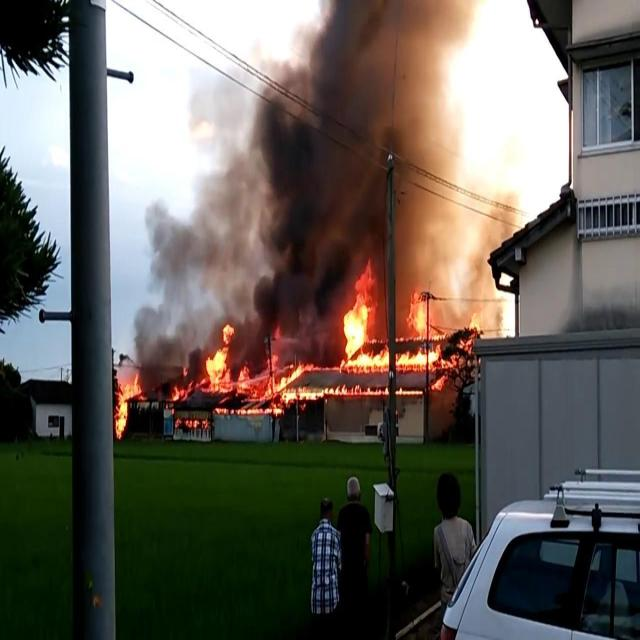Fire: (164, 324, 304, 404), (338, 286, 438, 374), (431, 321, 484, 390), (288, 382, 422, 400), (115, 377, 141, 435), (213, 404, 286, 415), (304, 358, 336, 372), (171, 418, 207, 428)
